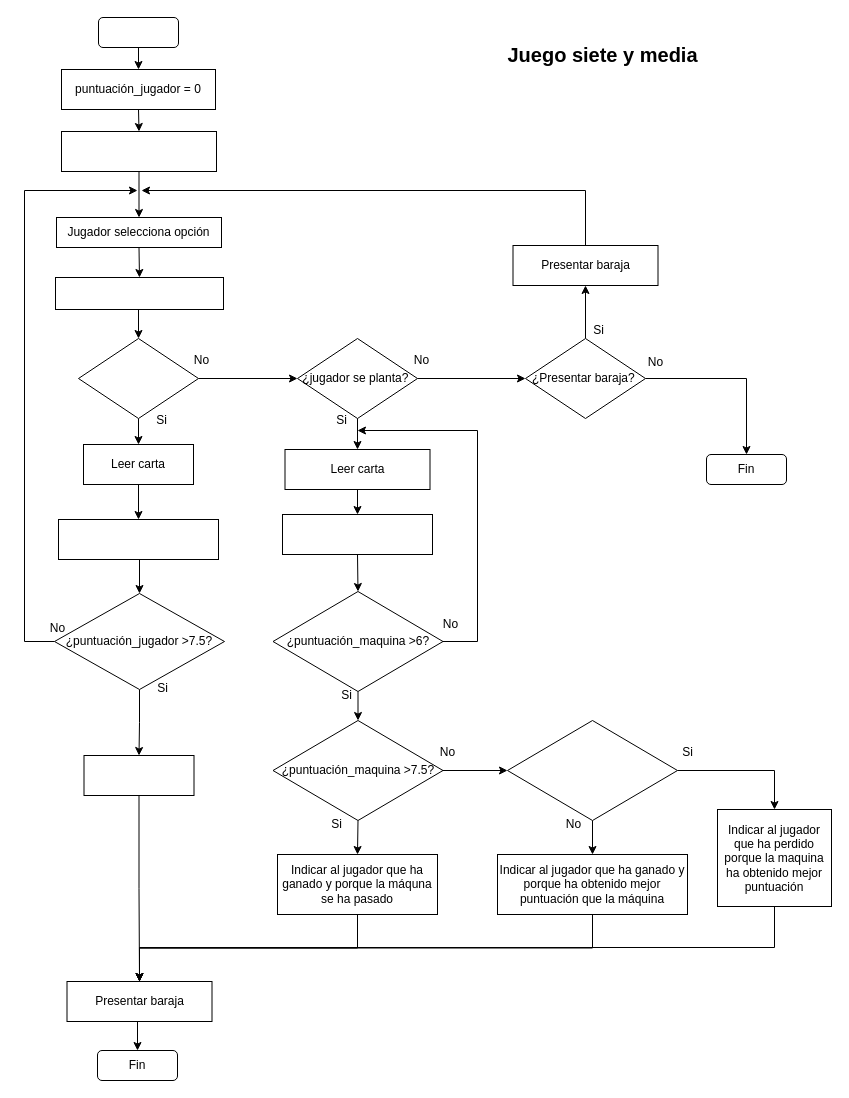
This 849x1098 diagram has some shape labels left out. The shapes that lost their labels are listed below. From the top down, each one's centre as x and y in pixels, then its label:
pixel 138 32: Inicio
pixel 138 151: puntuación_maquina=0
pixel 139 293: Leer opción seleccionada
pixel 138 378: ¿jugador pide carta?
pixel 138 539: actualizar puntuación_jugador
pixel 357 534: actualizar puntuación_maquina
pixel 138 775: Indicar al jugador que ha perdido
pixel 592 770: ¿puntuación_maquina > puntuación_jugador?
